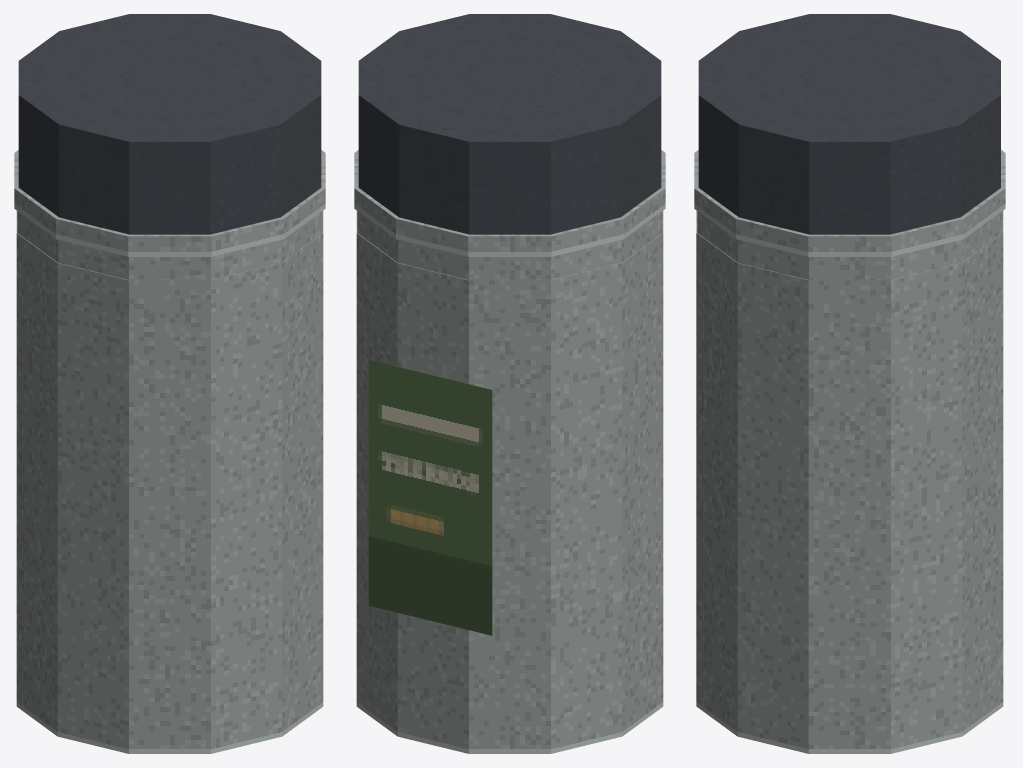
File: thermos.glb
3 views of the same model, side by side, from view 1: azimuth 30°, elevation 25°; view 2: azimuth 150°, elevation 25°; view 3: azimuth 270°, elevation 25° (orthographic).
Parts seen in each view (by area): view 1: block_bottle body, block_screw cap, block_cap edge, block_shoulder; view 2: block_bottle body, block_screw cap, block_product label, block_cap edge, block_shoulder; view 3: block_bottle body, block_screw cap, block_cap edge, block_shoulder.
Part boxes in pixels (<box>): block_bottle body: <box>16,211,323,753</box>; block_screw cap: <box>18,14,321,234</box>; block_cap edge: <box>14,150,325,256</box>; block_shoulder: <box>17,211,322,280</box>; block_bottle body: <box>356,211,663,753</box>; block_screw cap: <box>358,14,661,234</box>; block_product label: <box>368,360,492,635</box>; block_cap edge: <box>354,150,665,256</box>; block_shoulder: <box>357,211,662,280</box>; block_bottle body: <box>696,210,1003,753</box>; block_screw cap: <box>698,14,1000,234</box>; block_cap edge: <box>694,150,1005,256</box>; block_shoulder: <box>697,211,1002,280</box>.
Bounding box in the file's own units: 0.1478 × 0.32 × 0.1493.
Materials: 1 (1 with a texture image).
